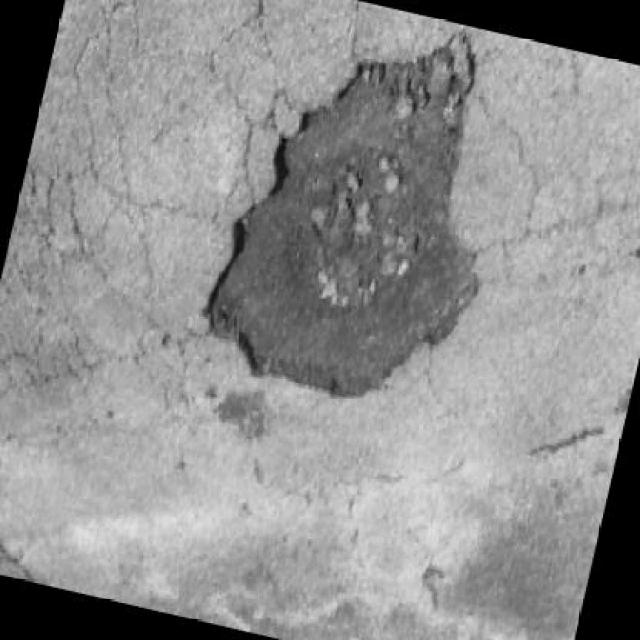pothole: (182, 2, 538, 440)
